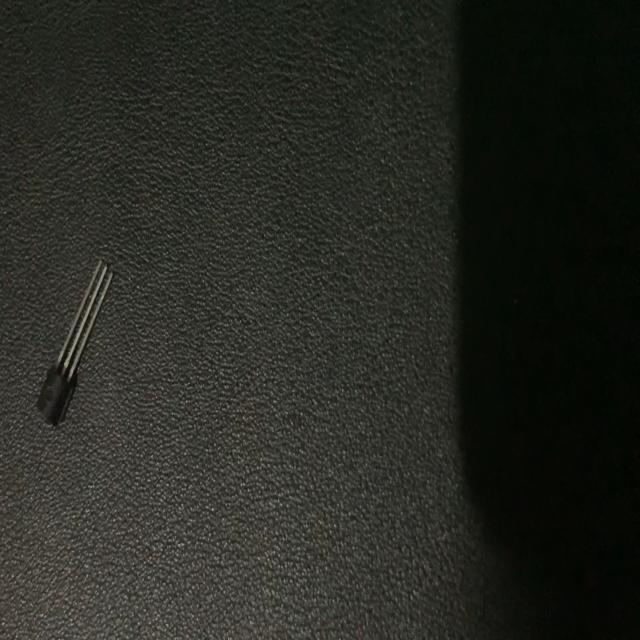BJT: (34, 261, 114, 430)
